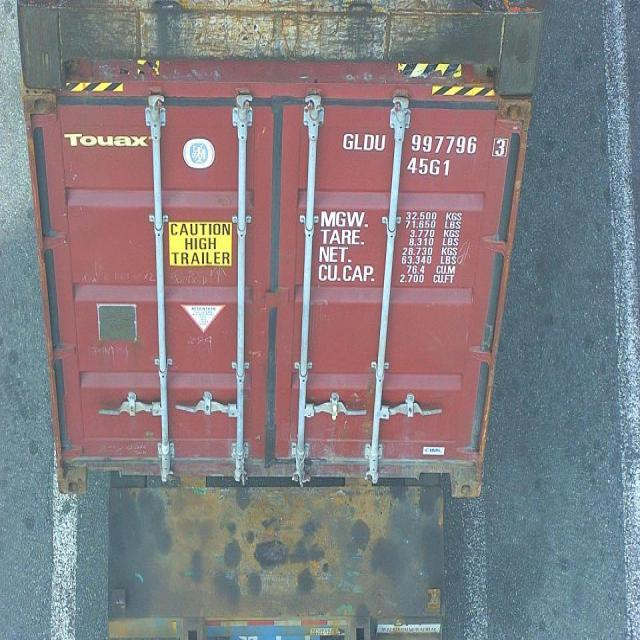ISO: (409, 158, 452, 177)
container_number: (346, 133, 501, 154)
